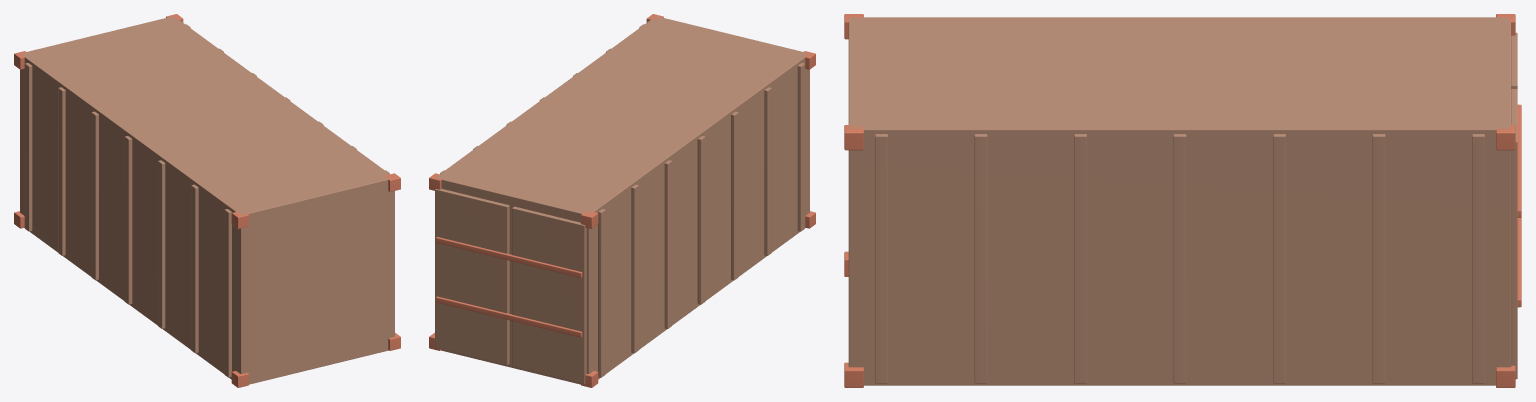
The model's file is container_20ft.glb.
The picture shows the model from 3 angles, left to right: view 1: azimuth 30°, elevation 25°; view 2: azimuth 150°, elevation 25°; view 3: azimuth 270°, elevation 25°; orthographic projection. The views are drawn at different scales.
Parts seen in each view (by area): view 1: container_20ft; view 2: container_20ft; view 3: container_20ft.
Boxes of the visible parts, x1=… form: container_20ft: x1=14, y1=14, x2=400, y2=387; container_20ft: x1=429, y1=14, x2=815, y2=387; container_20ft: x1=844, y1=14, x2=1521, y2=387.
Size of the model in its own units: 2.58 by 2.59 by 6.2.
